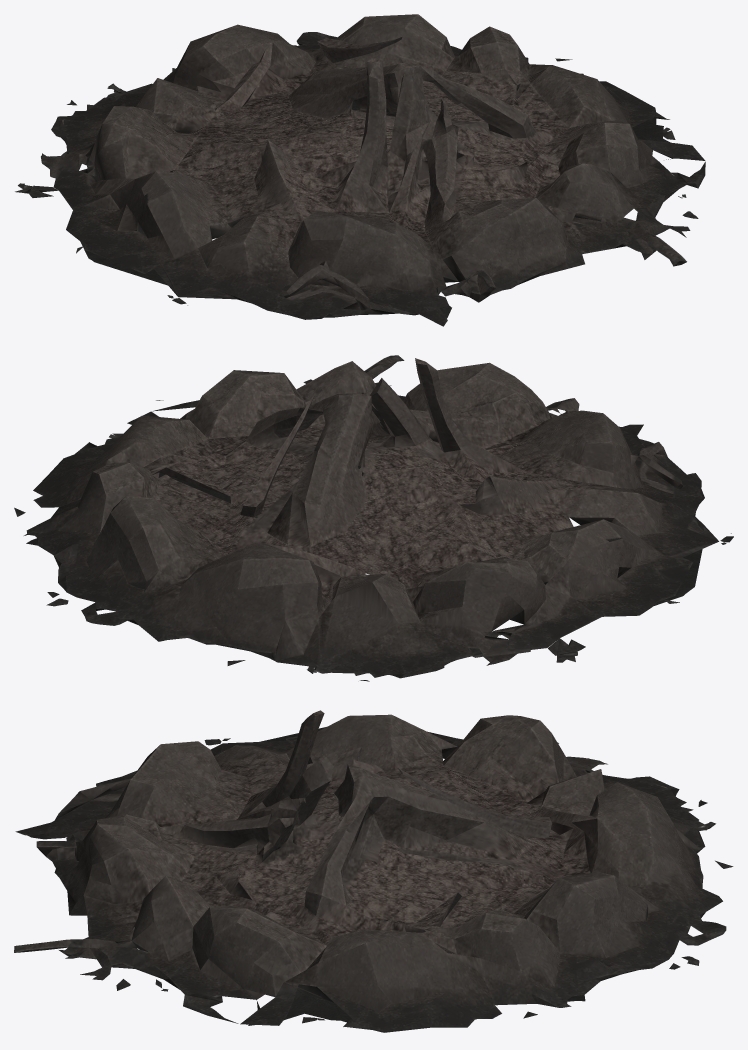
File: m15-bandit-campfire.glb
The picture shows the model from 3 angles, top to bottom: view 1: azimuth 30°, elevation 25°; view 2: azimuth 150°, elevation 25°; view 3: azimuth 270°, elevation 25°; orthographic projection. The views are drawn at different scales.
Bounding box in the file's own units: 1.77 × 0.4461 × 1.76.
1 material, 1 textured.
